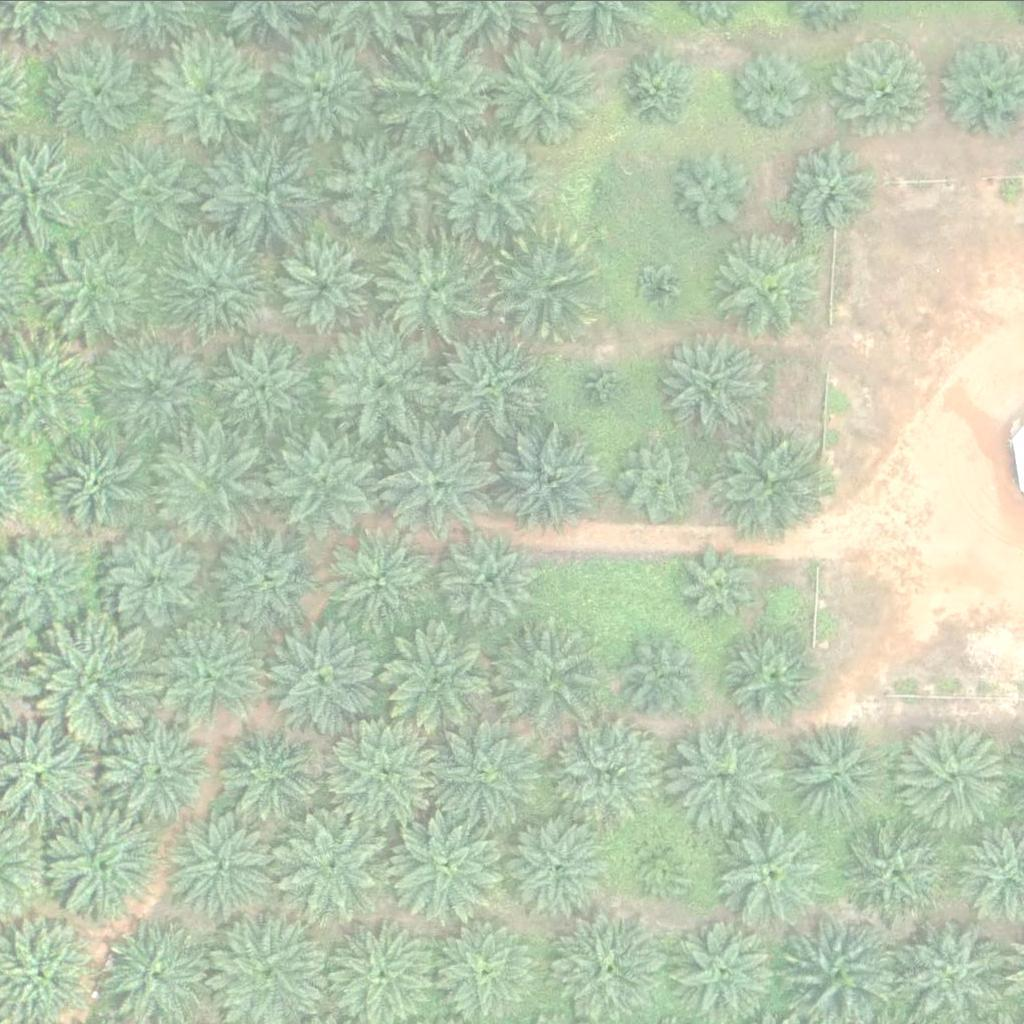Kelapa_Sawit: (40, 230, 154, 343), (266, 35, 380, 148), (376, 38, 490, 151), (95, 137, 209, 250), (205, 135, 319, 248), (160, 227, 274, 340), (549, 713, 663, 826), (390, 807, 504, 920), (43, 804, 156, 917), (39, 622, 152, 735), (486, 33, 599, 146), (326, 131, 439, 244), (270, 423, 383, 536), (383, 423, 496, 536), (498, 420, 611, 533), (319, 525, 432, 638), (330, 709, 443, 822), (425, 715, 538, 828), (165, 808, 278, 921), (281, 804, 394, 917), (716, 815, 829, 928), (838, 818, 951, 931), (673, 719, 786, 832), (777, 715, 890, 828), (900, 715, 1013, 828), (711, 420, 824, 533), (711, 229, 825, 341), (487, 230, 600, 342), (98, 332, 211, 444), (38, 35, 151, 147), (153, 37, 266, 149), (433, 127, 546, 239), (377, 232, 490, 344), (323, 332, 436, 444), (430, 328, 543, 440), (152, 429, 265, 541), (156, 617, 269, 729), (267, 620, 380, 732), (379, 615, 492, 727), (486, 616, 599, 728), (101, 710, 214, 822), (554, 910, 667, 1022), (661, 328, 774, 440), (108, 527, 209, 627), (50, 427, 151, 527), (274, 235, 375, 335), (215, 333, 316, 433), (212, 527, 313, 627), (439, 526, 540, 626), (218, 717, 319, 817), (675, 917, 776, 1017), (507, 812, 607, 912), (438, 919, 538, 1019), (832, 33, 932, 133), (729, 629, 818, 717), (784, 136, 872, 224), (619, 434, 707, 521), (669, 143, 757, 230), (619, 44, 707, 131), (728, 47, 816, 134), (629, 633, 705, 708), (680, 547, 755, 622), (632, 829, 695, 891), (577, 356, 628, 406), (633, 262, 684, 312), (570, 165, 620, 215)
